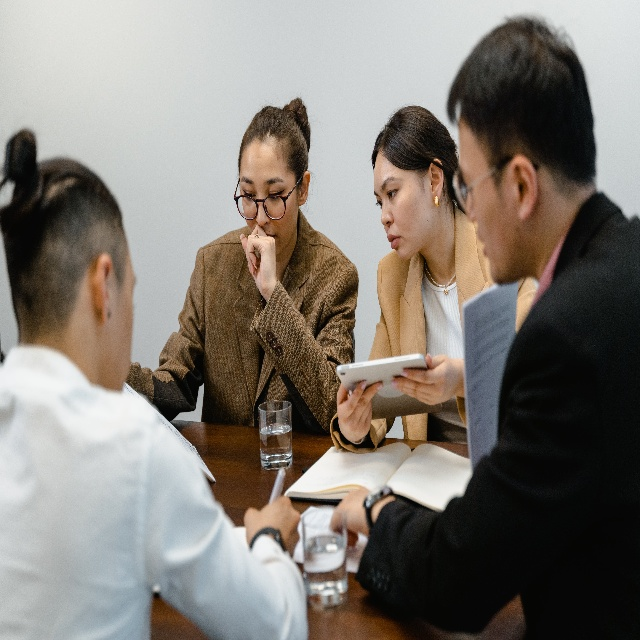Gafas: (233, 173, 303, 221), (456, 154, 517, 206)
Sin_guantes: (391, 354, 459, 407), (243, 494, 300, 556), (336, 380, 383, 442), (240, 224, 277, 298), (329, 486, 371, 550)
